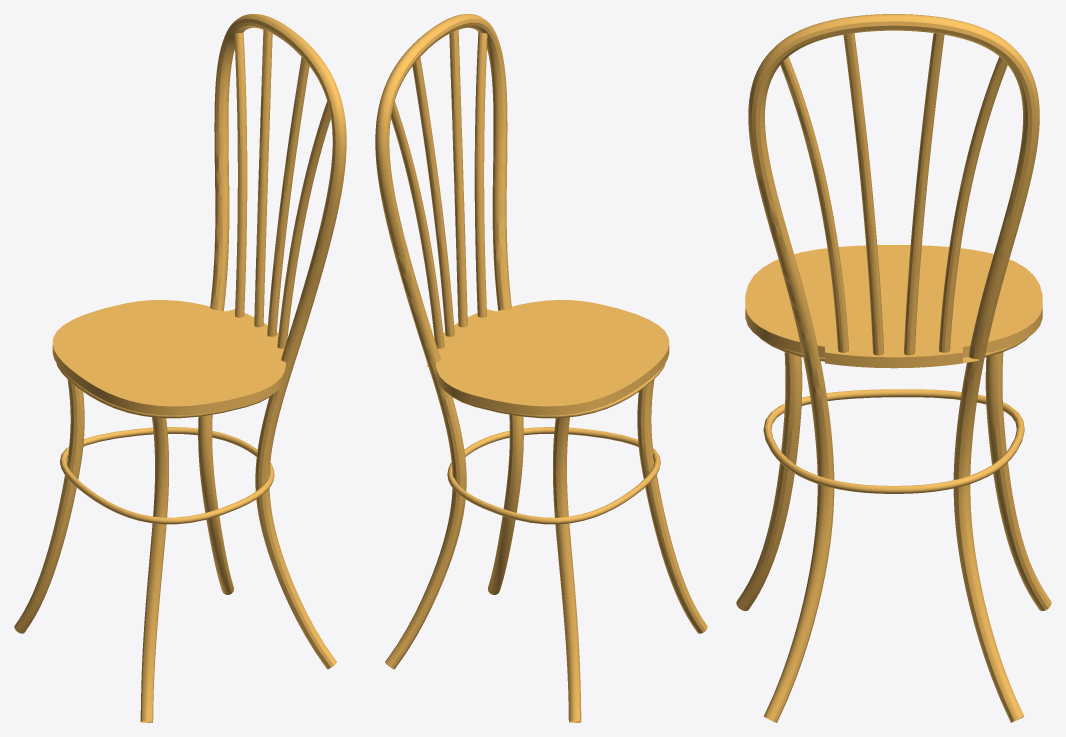
The model's file is meet-chair1.glb.
3 views of the same model, side by side, from view 1: azimuth 30°, elevation 25°; view 2: azimuth 150°, elevation 25°; view 3: azimuth 270°, elevation 25° (orthographic). The views are drawn at different scales.
Visible parts, largest first — view 1: Wooden Chair.064_0; view 2: Wooden Chair.064_0; view 3: Wooden Chair.064_0.
Boxes of the visible parts, <box> form: Wooden Chair.064_0: <box>14,14,346,722</box>; Wooden Chair.064_0: <box>375,14,707,722</box>; Wooden Chair.064_0: <box>736,14,1051,722</box>.
Bounding box in the file's own units: 0.4548 × 1.21 × 0.484.
